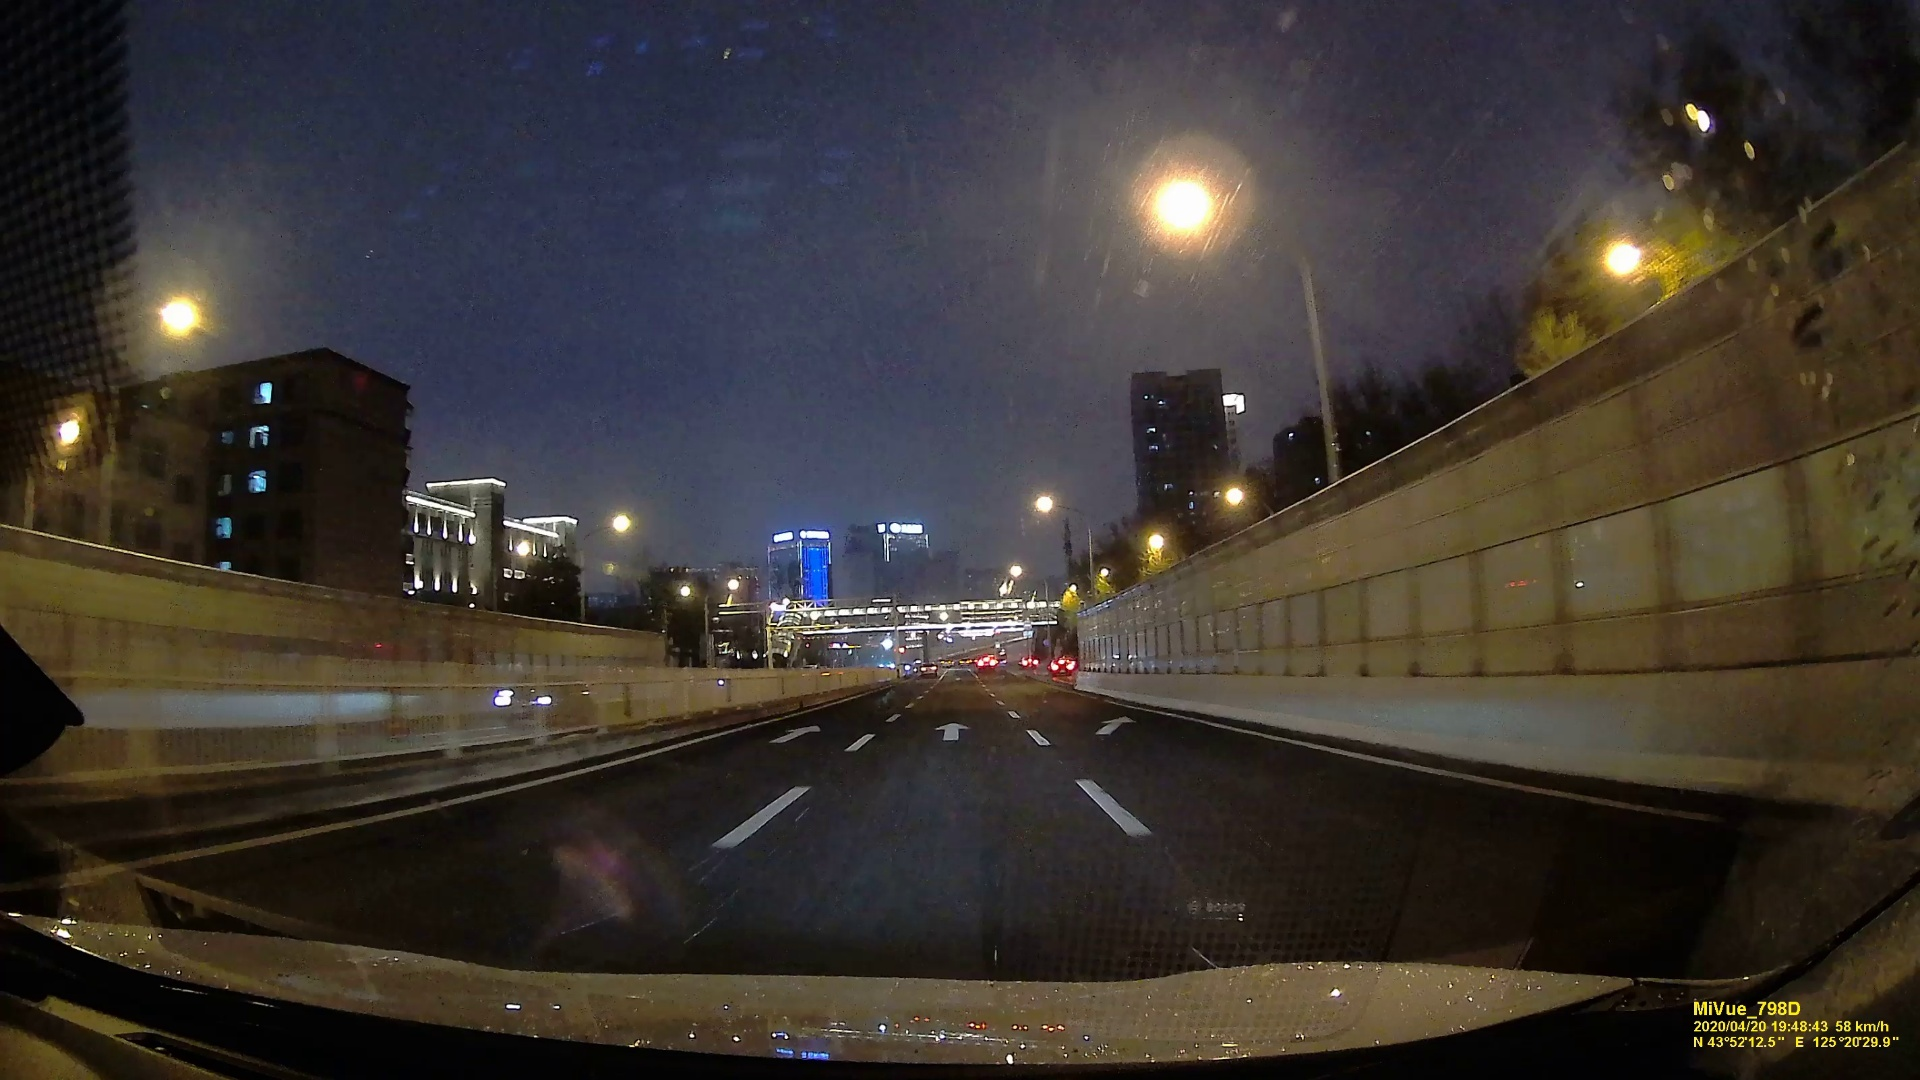vehicle: (489, 673, 595, 736)
